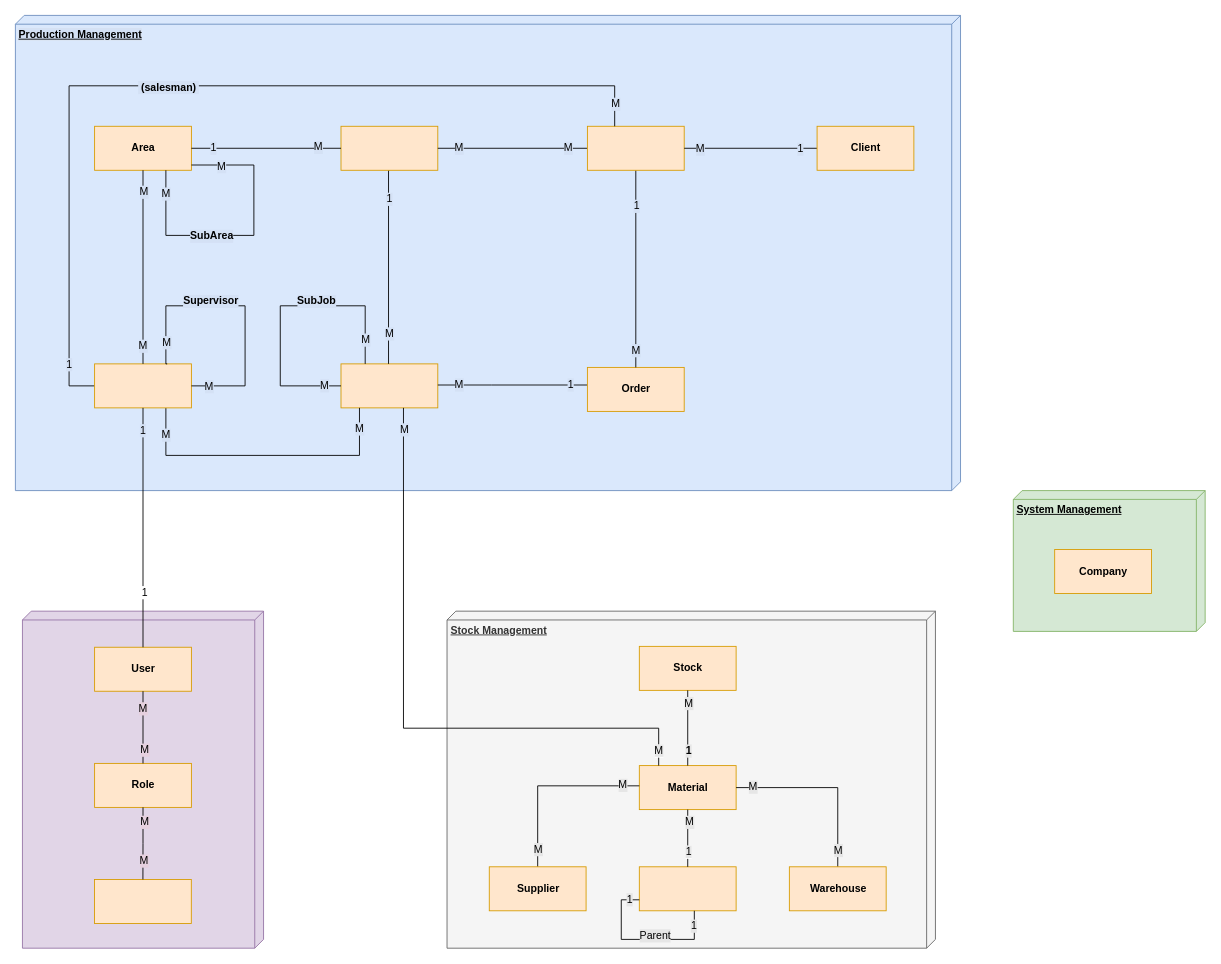
Some shapes in this 1221 by 964 pixel diagram are drawn without their labels. The box of each missing label's shape, as (x1, y1, x2, y2) in pixels:
Category: (638, 866, 736, 911)
Job: (340, 363, 438, 408)
Permission: (94, 879, 191, 923)
Quote: (587, 125, 684, 170)
Service: (340, 125, 438, 170)
User management: (22, 610, 264, 948)
Worker: (94, 363, 191, 408)
